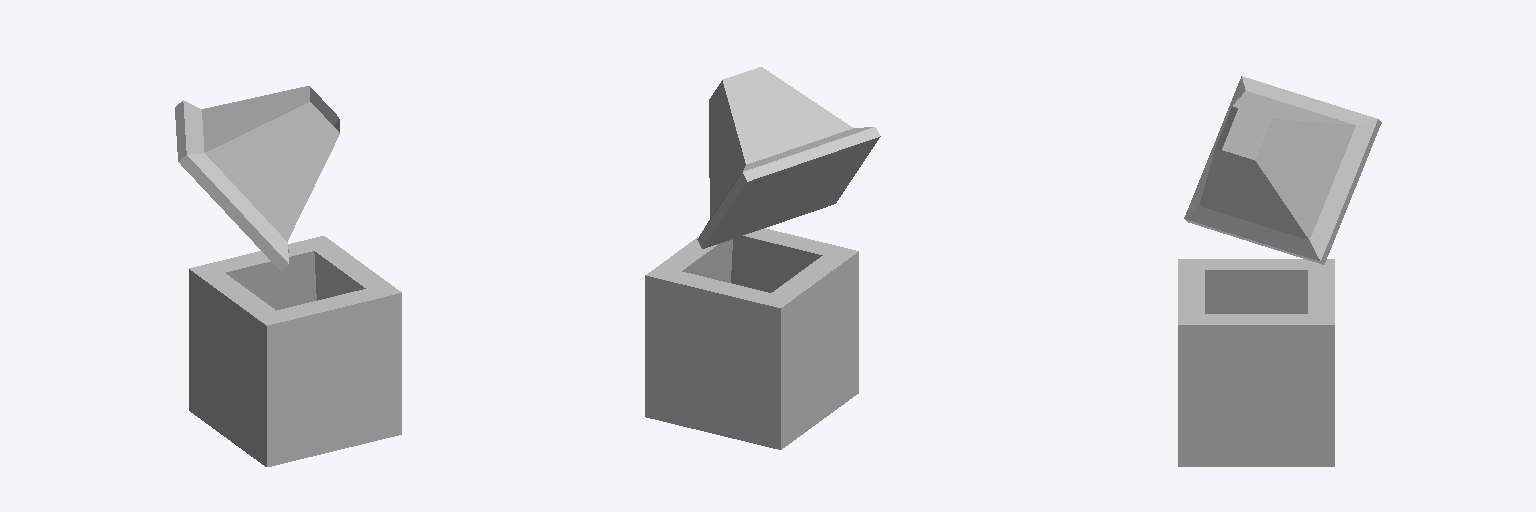
The model's file is AnimatedBox_000098.obj.
The picture shows the model from 3 angles: view 1: azimuth 30°, elevation 25°; view 2: azimuth 150°, elevation 25°; view 3: azimuth 270°, elevation 25°; orthographic projection.
Visible parts, largest first — view 1: Cube, Cube.001; view 2: Cube, Cube.001; view 3: Cube, Cube.001.
Part boxes in pixels (left/top/right/bottom): Cube: left=189, top=236, right=401, bottom=466; Cube.001: left=175, top=86, right=339, bottom=270; Cube: left=645, top=228, right=858, bottom=449; Cube.001: left=697, top=67, right=880, bottom=248; Cube: left=1178, top=259, right=1334, bottom=466; Cube.001: left=1184, top=76, right=1381, bottom=264.
Bounding box in the file's own units: 2.81 × 4.64 × 2.61.